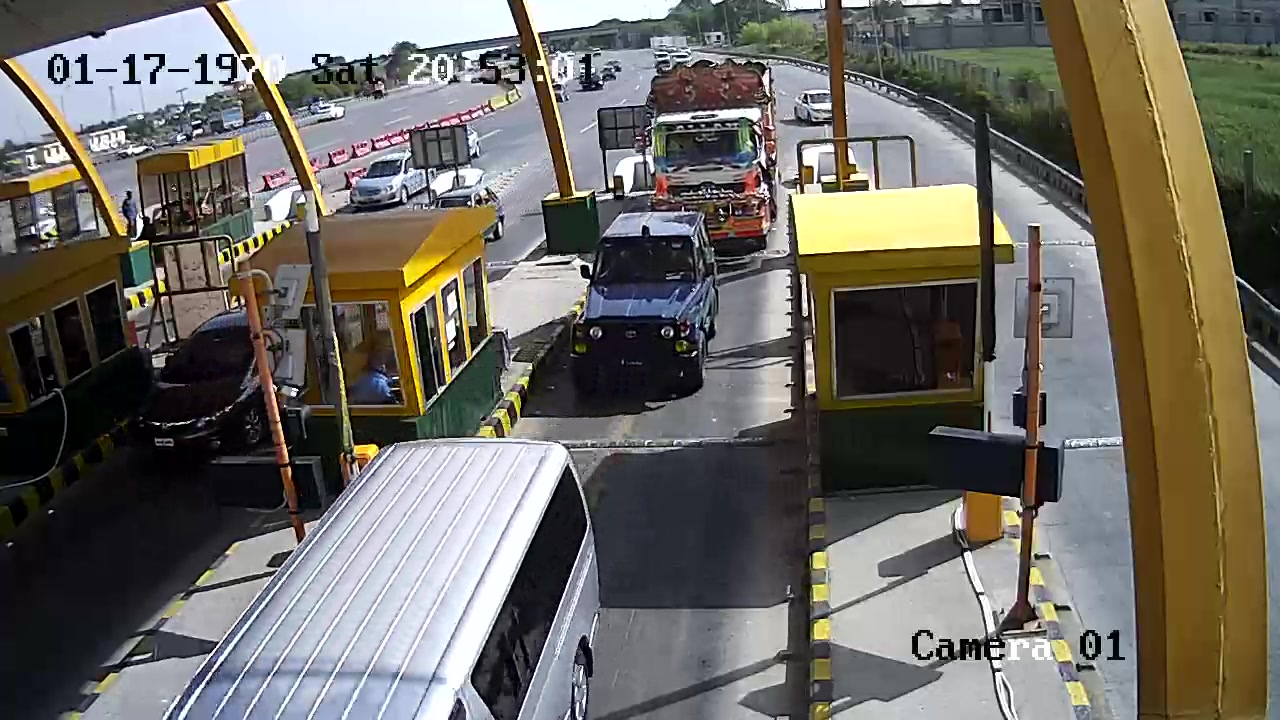F1: (576, 210, 715, 393)
